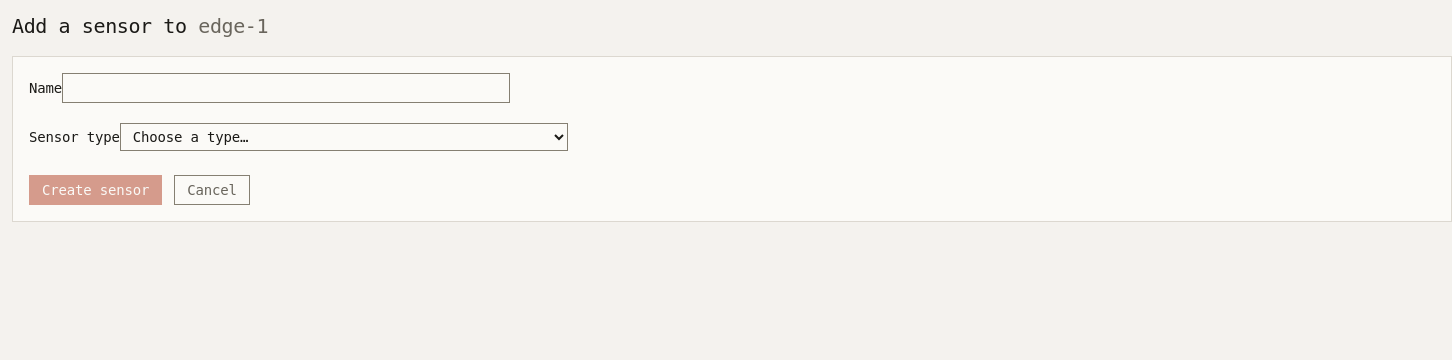
Test: the add-sensor form’s listener notice while the form is open › leaves the sentence standing while it asks again, so it is announced once
This screenshot has width=1452, height=360.
Select "flow.netflow — Flow" in the dropdown labelled "Sensor type" at (344, 137), box left=120, top=123, right=568, bottom=151
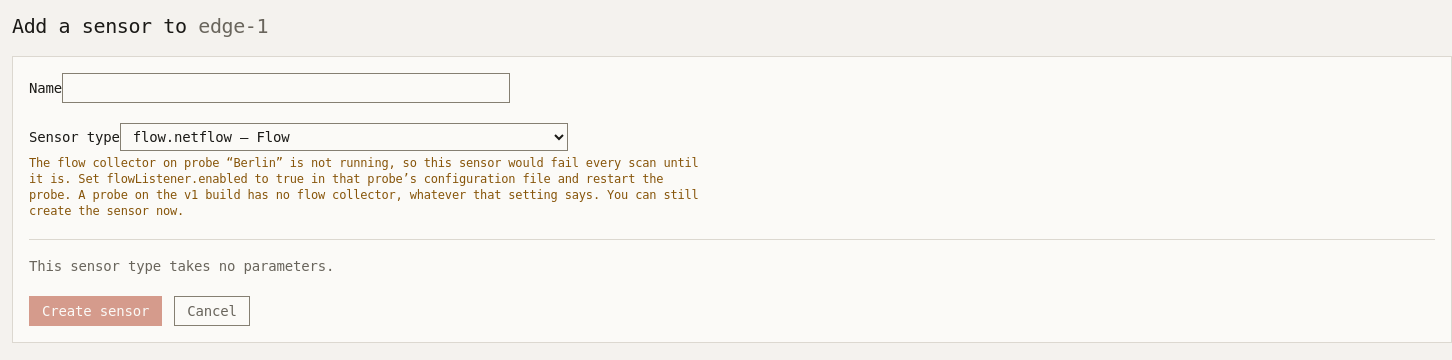
Check: the message with id "sensor-type-listener" shows "is not running", box left=29, top=156, right=699, bottom=218
